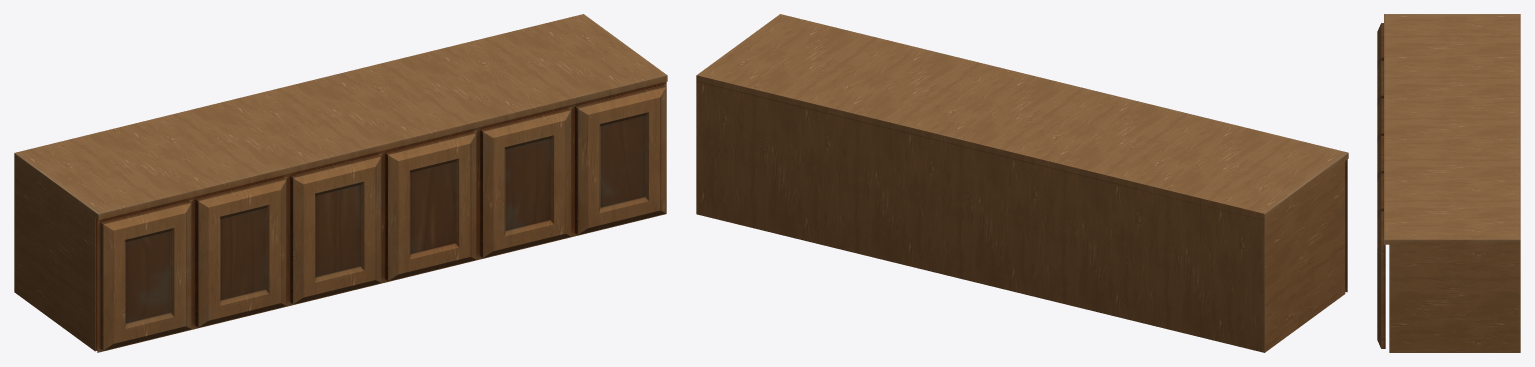
File: AslanHouse_Kitchen1.fbx
3 renders of one model, left to right at view 1: azimuth 30°, elevation 25°; view 2: azimuth 150°, elevation 25°; view 3: azimuth 270°, elevation 25°, orthographic. The views are drawn at different scales.
Visible parts, largest first — view 1: Cube.018; view 2: Cube.018; view 3: Cube.018.
Part boxes in pixels (bbox=[...]): Cube.018: bbox=[14, 14, 667, 352]; Cube.018: bbox=[696, 14, 1348, 352]; Cube.018: bbox=[1377, 14, 1520, 352].
Size of the model in its own units: 516 by 121 by 138.
1 material, 1 textured.
